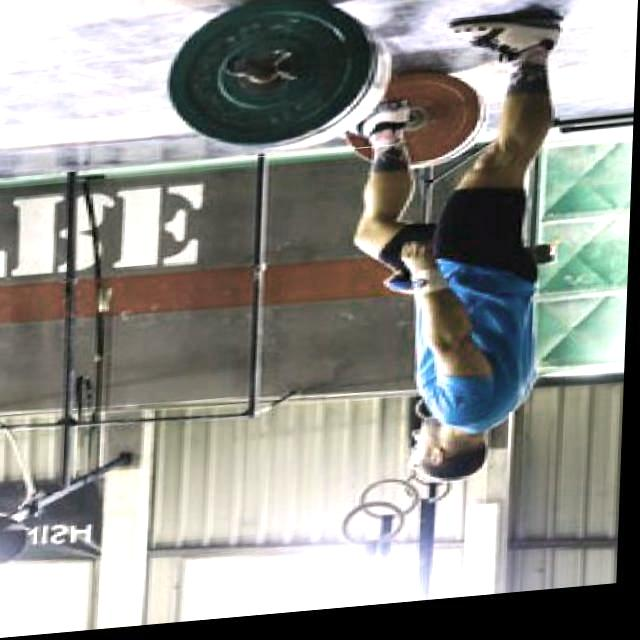barbell: (153, 1, 402, 171)
